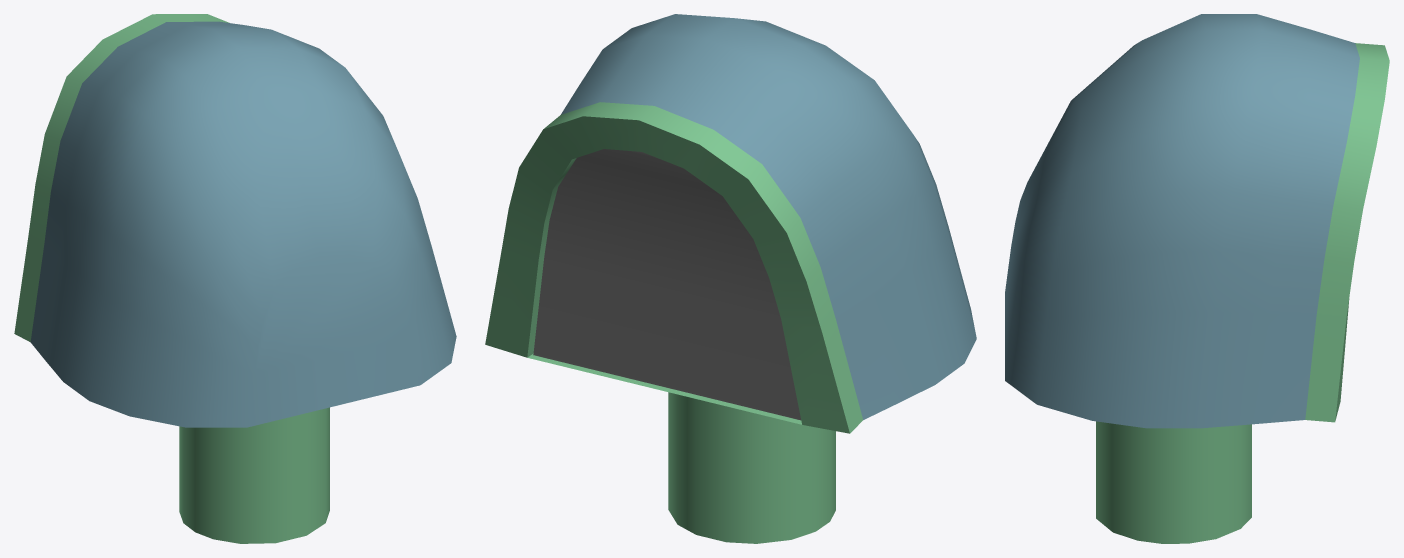
The model's file is spacial_ship_telescop_room.fbx.
3 renders of one model, left to right at view 1: azimuth 30°, elevation 25°; view 2: azimuth 150°, elevation 25°; view 3: azimuth 270°, elevation 25°, orthographic. The views are drawn at different scales.
Parts seen in each view (by area): view 1: TelescopRoom; view 2: TelescopRoom, TelescopRoomDoor; view 3: TelescopRoom.
Boxes of the visible parts, x1,y1,x2,y2 form: TelescopRoom: [14, 14, 456, 543]; TelescopRoom: [485, 14, 976, 543]; TelescopRoomDoor: [533, 149, 800, 420]; TelescopRoom: [1005, 14, 1389, 543].
Size of the model in its own units: 453 by 551 by 400.
